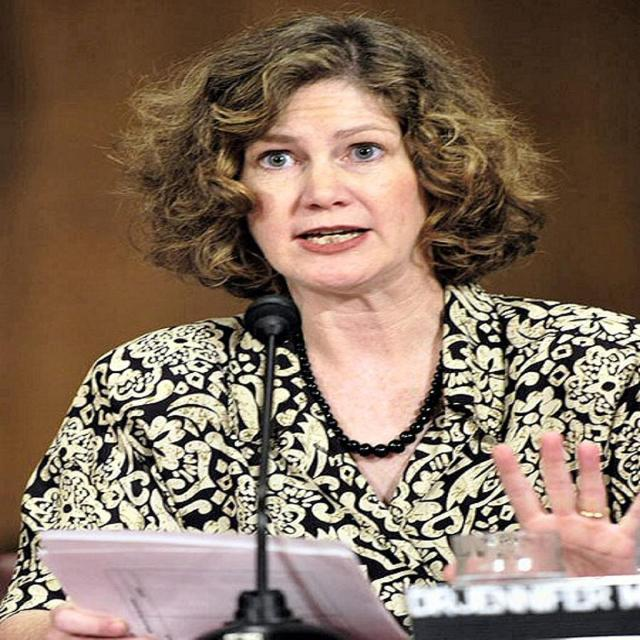Face: (208, 82, 465, 287)
